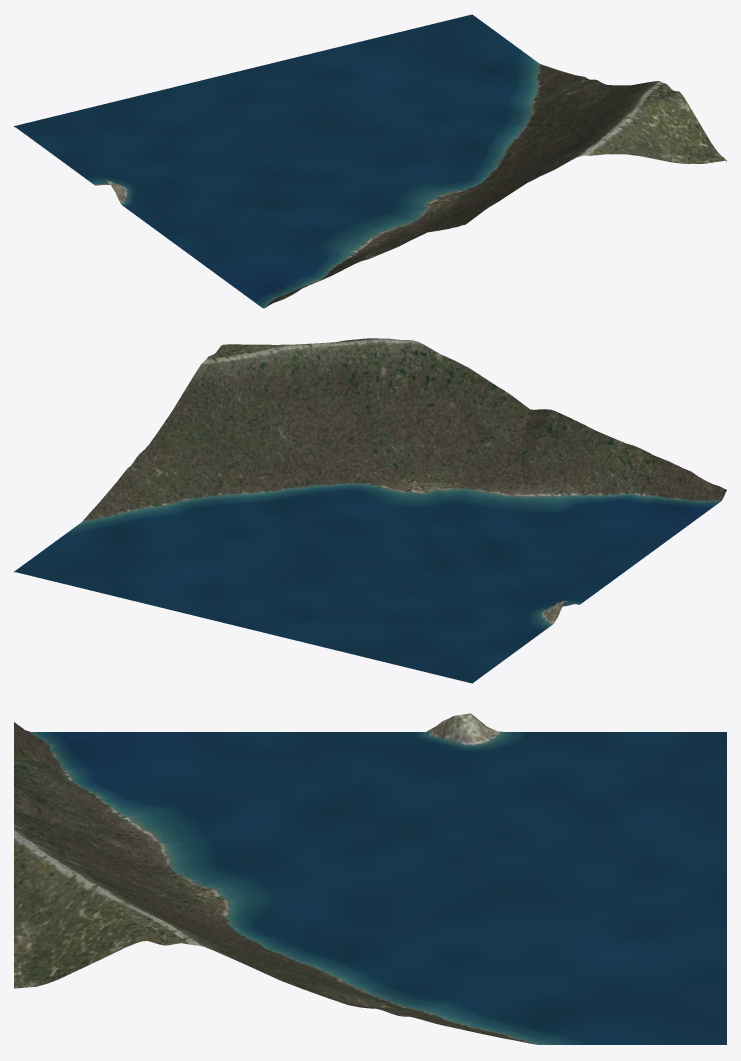
The picture shows the model from 3 angles, top to bottom: view 1: azimuth 30°, elevation 25°; view 2: azimuth 150°, elevation 25°; view 3: azimuth 270°, elevation 25°; orthographic projection. The views are drawn at different scales.
Bounding box in the file's own units: 1000 × 171 × 963.
1 material, 1 textured.
